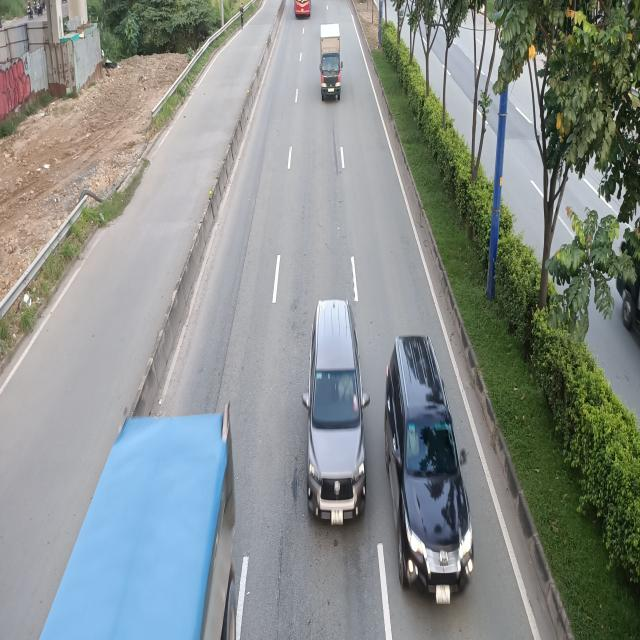car: (388, 331, 472, 602), (301, 300, 365, 523)
truck: (318, 22, 343, 100)
